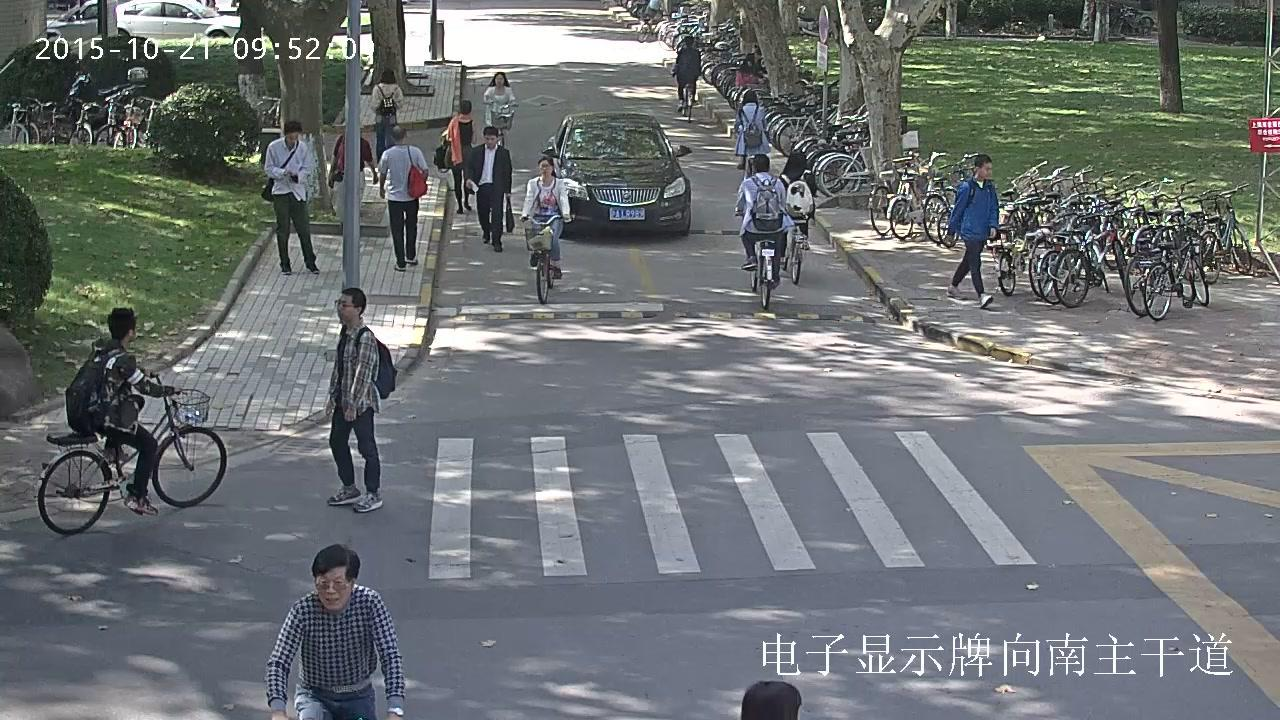face: (315, 566, 351, 610), (336, 293, 354, 322), (540, 159, 552, 176), (980, 160, 991, 177), (286, 131, 298, 145), (485, 134, 496, 148), (495, 74, 503, 86), (131, 326, 136, 341)
